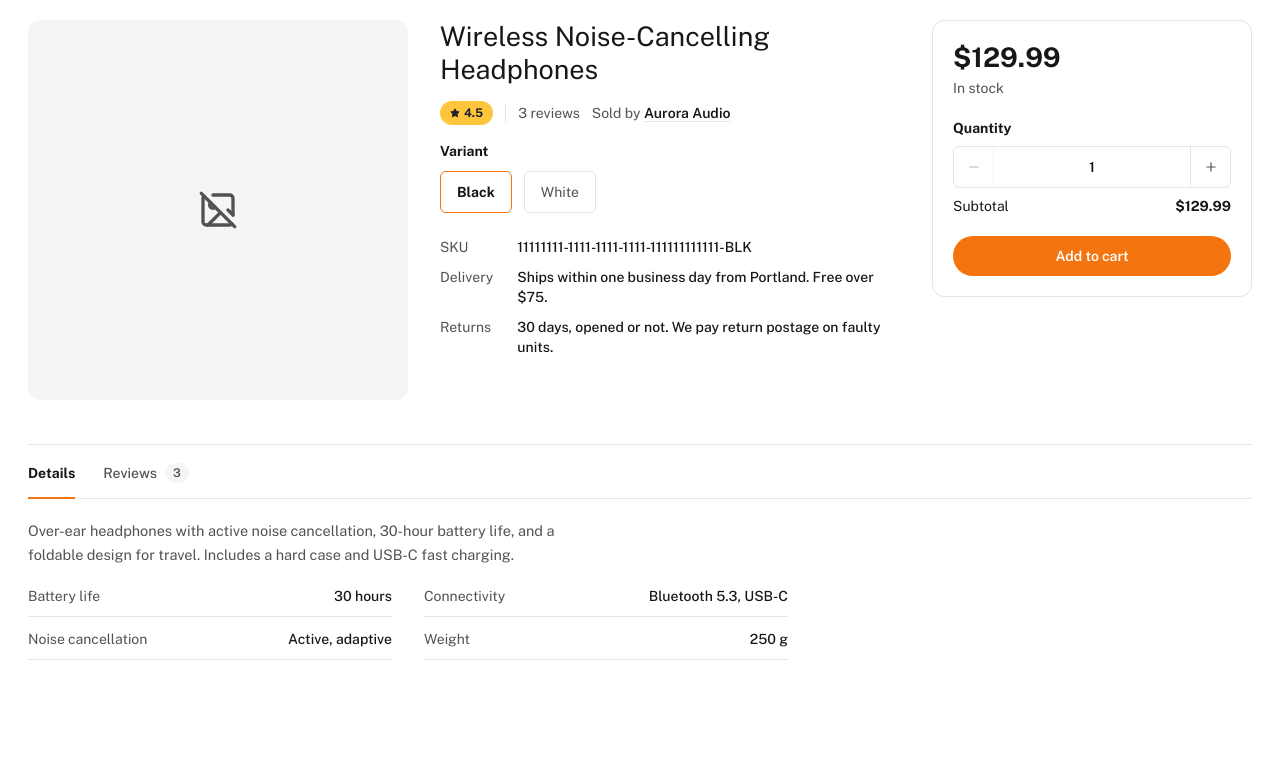
Scenario: ProductDetail › switches to the Reviews tab and lists reviews
Expected: the heading "Wireless Noise-Cancelling Headphones" is shown, [440,20,770,86]
Click the tab "Reviews 3" at (146, 474), box [103,449,189,499]
(page scrolled)
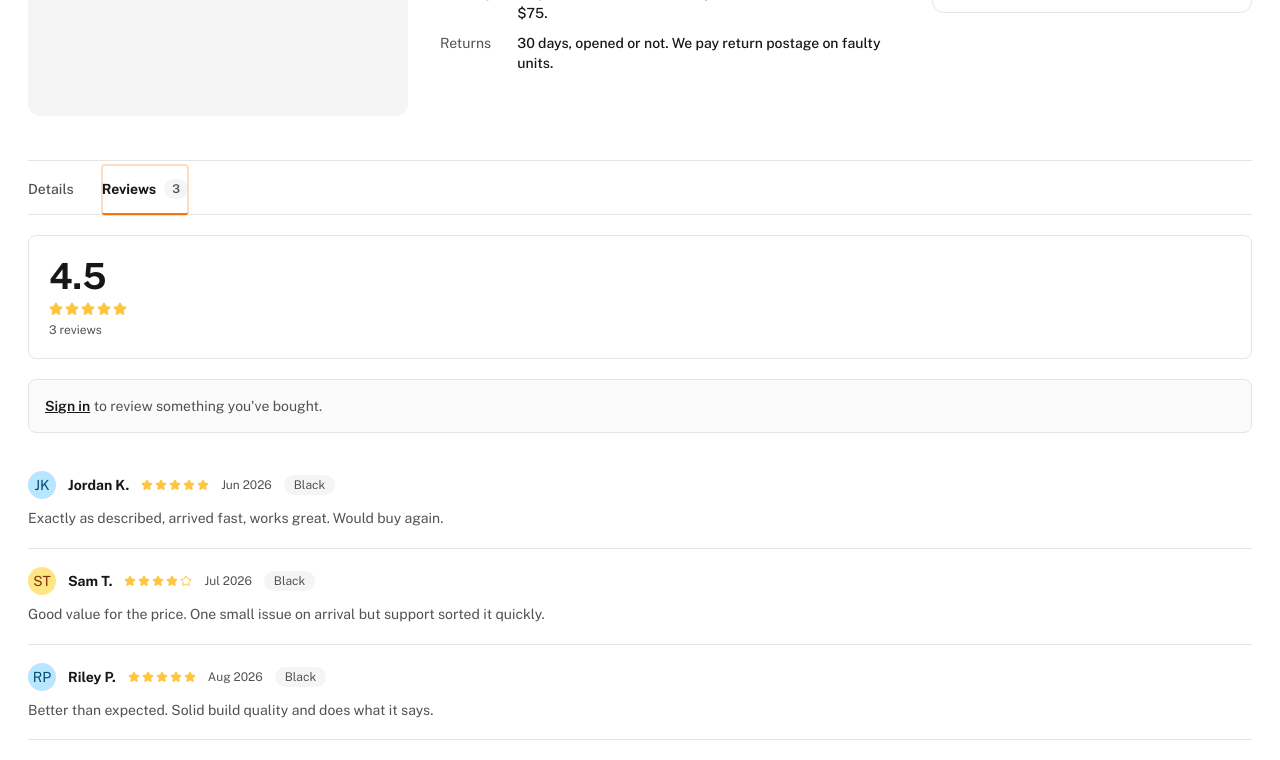
Now the text "Jordan K." is shown, box [68,475,129,495]
